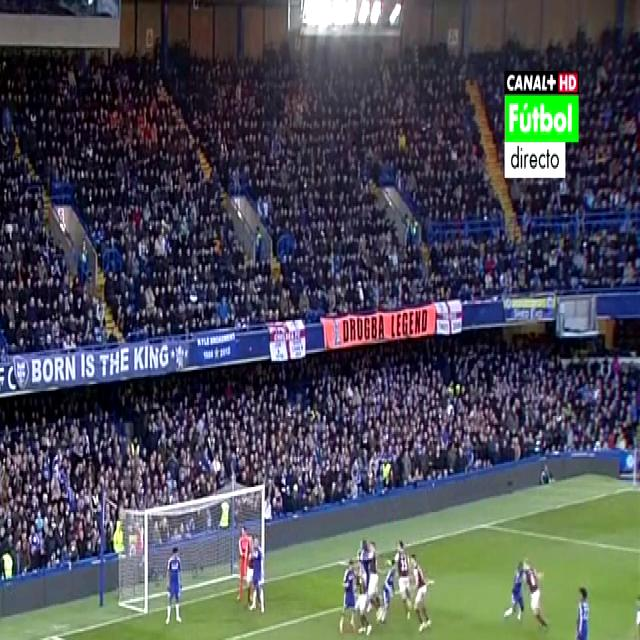soccer-player: (408, 551, 436, 637), (501, 549, 529, 629), (161, 539, 185, 628), (526, 552, 552, 634), (336, 554, 358, 640), (569, 576, 594, 640), (486, 638, 517, 640)
